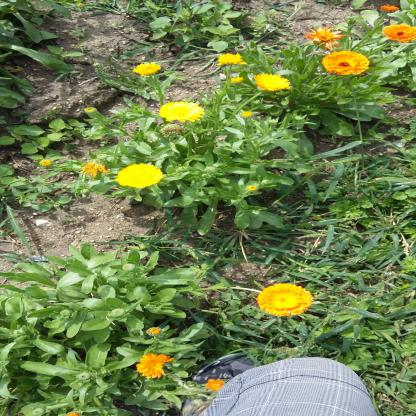marigold: (284, 105, 316, 161), (51, 49, 74, 96), (164, 254, 187, 300), (101, 212, 122, 256), (354, 243, 378, 279), (25, 0, 43, 34), (74, 126, 90, 160)
